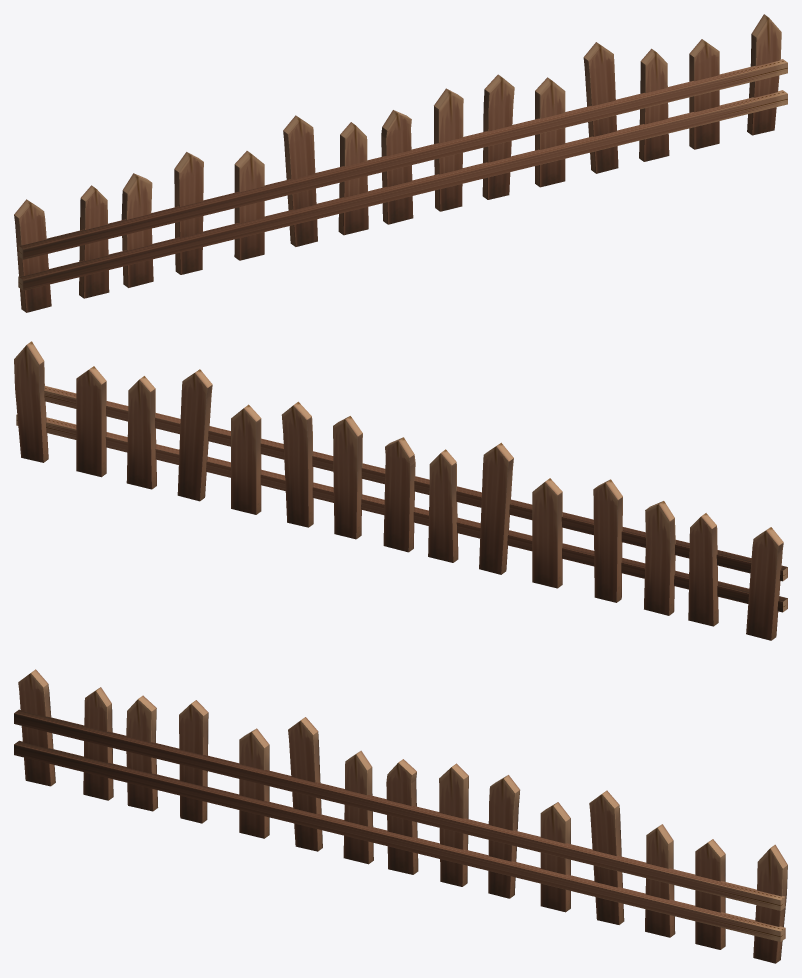
File: CBS_obj_wood_fence.FBX
The picture shows the model from 3 angles, top to bottom: view 1: azimuth 30°, elevation 25°; view 2: azimuth 150°, elevation 25°; view 3: azimuth 330°, elevation 25°; orthographic projection.
Parts seen in each view (by area): view 1: CBS_obj_wood_fence; view 2: CBS_obj_wood_fence; view 3: CBS_obj_wood_fence.
Boxes of the visible parts, x1,y1,x2,y2 form: CBS_obj_wood_fence: [14, 14, 787, 312]; CBS_obj_wood_fence: [14, 341, 787, 640]; CBS_obj_wood_fence: [14, 669, 787, 963].
Size of the model in its own units: 359 by 57.01 by 7.61.
